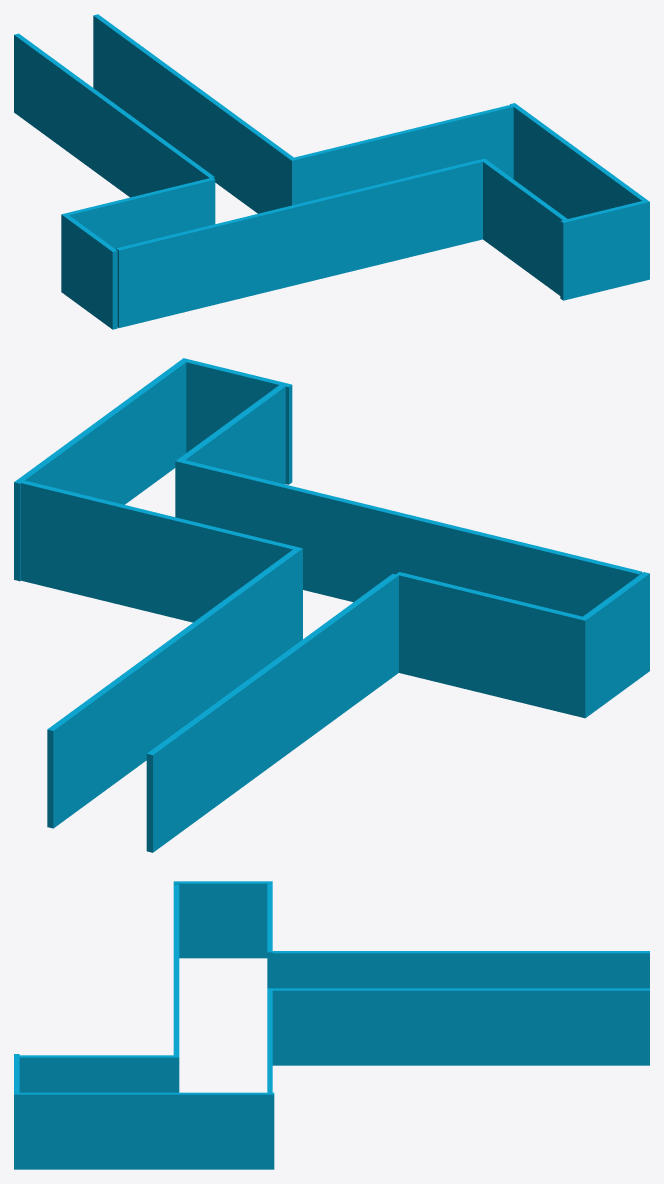
Rendered from MAZE.dae.
3 renders of one model, top to bottom at view 1: azimuth 30°, elevation 25°; view 2: azimuth 150°, elevation 25°; view 3: azimuth 270°, elevation 25°, orthographic. The views are drawn at different scales.
Parts seen in each view (by area): view 1: maze; view 2: maze; view 3: maze.
Part boxes in pixels (<box>): maze: <box>14,14,649,329</box>; maze: <box>14,358,649,852</box>; maze: <box>14,881,649,1169</box>.
Size of the model in its own units: 3.67 by 4.62 by 0.6.
